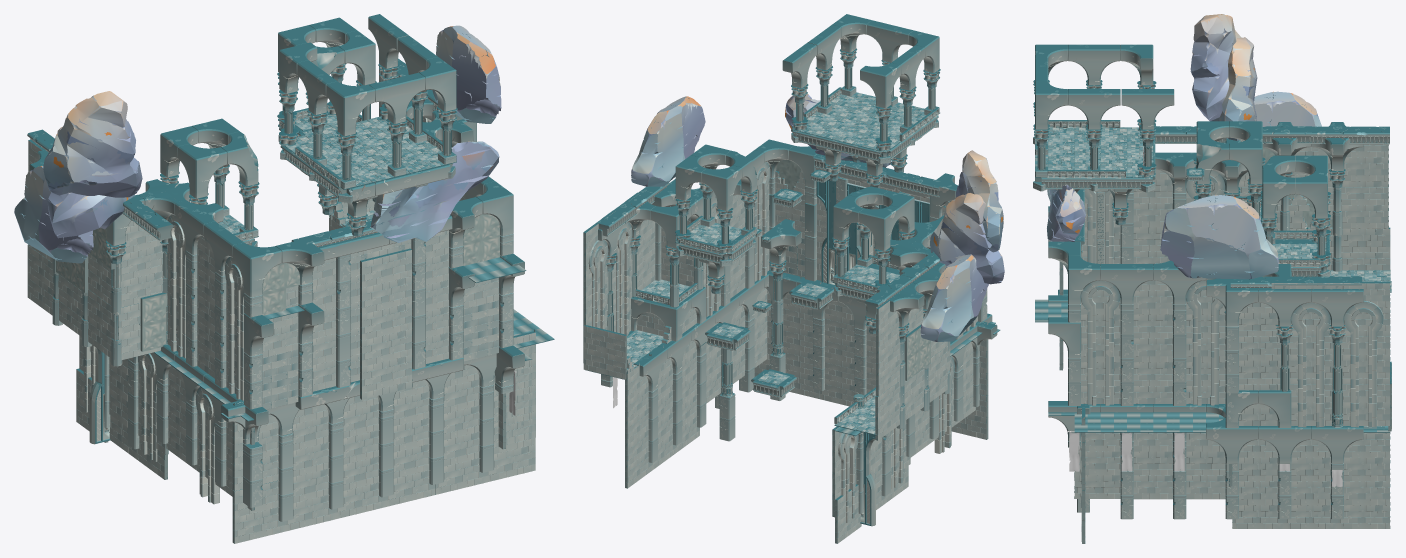
The model's file is SM_L4_yi_ ji_2glb.glb.
The picture shows the model from 3 angles, left to right: view 1: azimuth 30°, elevation 25°; view 2: azimuth 150°, elevation 25°; view 3: azimuth 270°, elevation 25°; orthographic projection. The views are drawn at different scales.
Parts seen in each view (by area): view 1: TFD_Rock_Large_10A_LOD0_2, TFD_Column_01A_Module_19_LOD0_6, TFD_Rock_Large_11A_LOD0_3, TFD_Column_01A_Module_19_LOD0, TFD_Rock_Large_14A_LOD0_2, TFD_Rock_Large_14A_LOD0_6, TFD_Wall_06A_LOD0_9, TFD_Wall_06A_LOD0_92, TFD_Rock_Large_10A_LOD0_3, TFD_Wall_06A_LOD0_74.004, TFD_Wall_06A_LOD0_73, TFD_Wall_06A_LOD0_255.003 (+65 smaller); view 2: TFD_Column_01A_Module_19_LOD0, TFD_Column_01A_Module_19_LOD0_6, TFD_Rock_Large_14A_LOD0_2, TFD_Rock_Large_14A_LOD0_6, TFD_Rock_Large_10A_LOD0_3, TFD_Rock_Large_10A_LOD0_2, TFD_Wall_06A_LOD0_255.003, TFD_Wall_Decoration_01A_R_LOD0_3, TFD_Wall_06A_LOD0_255.004, TFD_Wall_06A_LOD0_255.007, TFD_Wall_06A_LOD0_255.006, TFD_Column_01A_Module_11_LOD0_41 (+58 smaller); view 3: TFD_Rock_Large_14A_LOD0_2, TFD_Column_01A_Module_19_LOD0, TFD_Column_01A_Module_19_LOD0_6, TFD_Rock_Large_10A_LOD0_2, TFD_Rock_Large_10A_LOD0_3, TFD_Wall_06A_LOD0_63, TFD_Wall_06A_LOD0_162.003, TFD_Wall_06A_LOD0_47.004, TFD_Wall_06A_LOD0_63.001, TFD_Wall_06A_LOD0_61, TFD_Wall_06A_LOD0_237, TFD_Wall_06A_LOD0_255 (+79 smaller).
Part boxes in pixels (left/top/right/bottom): TFD_Rock_Large_10A_LOD0_2: left=43, top=91, right=142, bottom=197; TFD_Column_01A_Module_19_LOD0_6: left=160, top=118, right=259, bottom=246; TFD_Rock_Large_11A_LOD0_3: left=370, top=141, right=499, bottom=242; TFD_Column_01A_Module_19_LOD0: left=277, top=17, right=376, bottom=186; TFD_Rock_Large_14A_LOD0_2: left=432, top=25, right=501, bottom=123; TFD_Rock_Large_14A_LOD0_6: left=14, top=166, right=93, bottom=263; TFD_Wall_06A_LOD0_9: left=360, top=248, right=412, bottom=314; TFD_Wall_06A_LOD0_92: left=360, top=302, right=412, bottom=366; TFD_Rock_Large_10A_LOD0_3: left=47, top=127, right=134, bottom=238; TFD_Wall_06A_LOD0_74.004: left=232, top=480, right=284, bottom=543; TFD_Wall_06A_LOD0_73: left=118, top=245, right=163, bottom=307; TFD_Wall_06A_LOD0_255.003: left=385, top=444, right=435, bottom=506; TFD_Column_01A_Module_19_LOD0: left=675, top=144, right=757, bottom=294; TFD_Column_01A_Module_19_LOD0_6: left=832, top=186, right=914, bottom=334; TFD_Rock_Large_14A_LOD0_2: left=631, top=96, right=705, bottom=186; TFD_Rock_Large_14A_LOD0_6: left=920, top=254, right=988, bottom=341; TFD_Rock_Large_10A_LOD0_3: left=930, top=193, right=1004, bottom=284; TFD_Rock_Large_10A_LOD0_2: left=956, top=150, right=1003, bottom=252; TFD_Wall_06A_LOD0_255.003: left=820, top=357, right=855, bottom=406; TFD_Wall_Decoration_01A_R_LOD0_3: left=816, top=179, right=836, bottom=285; TFD_Wall_06A_LOD0_255.004: left=824, top=313, right=855, bottom=363; TFD_Wall_06A_LOD0_255.007: left=783, top=303, right=813, bottom=353; TFD_Wall_06A_LOD0_255.006: left=783, top=347, right=819, bottom=398; TFD_Column_01A_Module_11_LOD0_41: left=860, top=63, right=900, bottom=108; TFD_Rock_Large_14A_LOD0_2: left=1160, top=195, right=1278, bottom=279; TFD_Column_01A_Module_19_LOD0: left=1260, top=155, right=1330, bottom=277; TFD_Column_01A_Module_19_LOD0_6: left=1193, top=121, right=1265, bottom=222; TFD_Rock_Large_10A_LOD0_2: left=1190, top=14, right=1241, bottom=120; TFD_Rock_Large_10A_LOD0_3: left=1210, top=37, right=1257, bottom=140; TFD_Wall_06A_LOD0_63: left=1337, top=481, right=1390, bottom=528; TFD_Wall_06A_LOD0_162.003: left=1341, top=181, right=1388, bottom=228; TFD_Wall_06A_LOD0_47.004: left=1341, top=227, right=1390, bottom=270; TFD_Wall_06A_LOD0_63.001: left=1344, top=433, right=1390, bottom=481; TFD_Wall_06A_LOD0_61: left=1239, top=336, right=1281, bottom=384; TFD_Wall_06A_LOD0_237: left=1285, top=481, right=1337, bottom=528; TFD_Wall_06A_LOD0_255: left=1232, top=481, right=1284, bottom=528.
Bounding box in the file's own units: 68.15 × 68.5 × 54.58.
4 materials, 3 textured.
